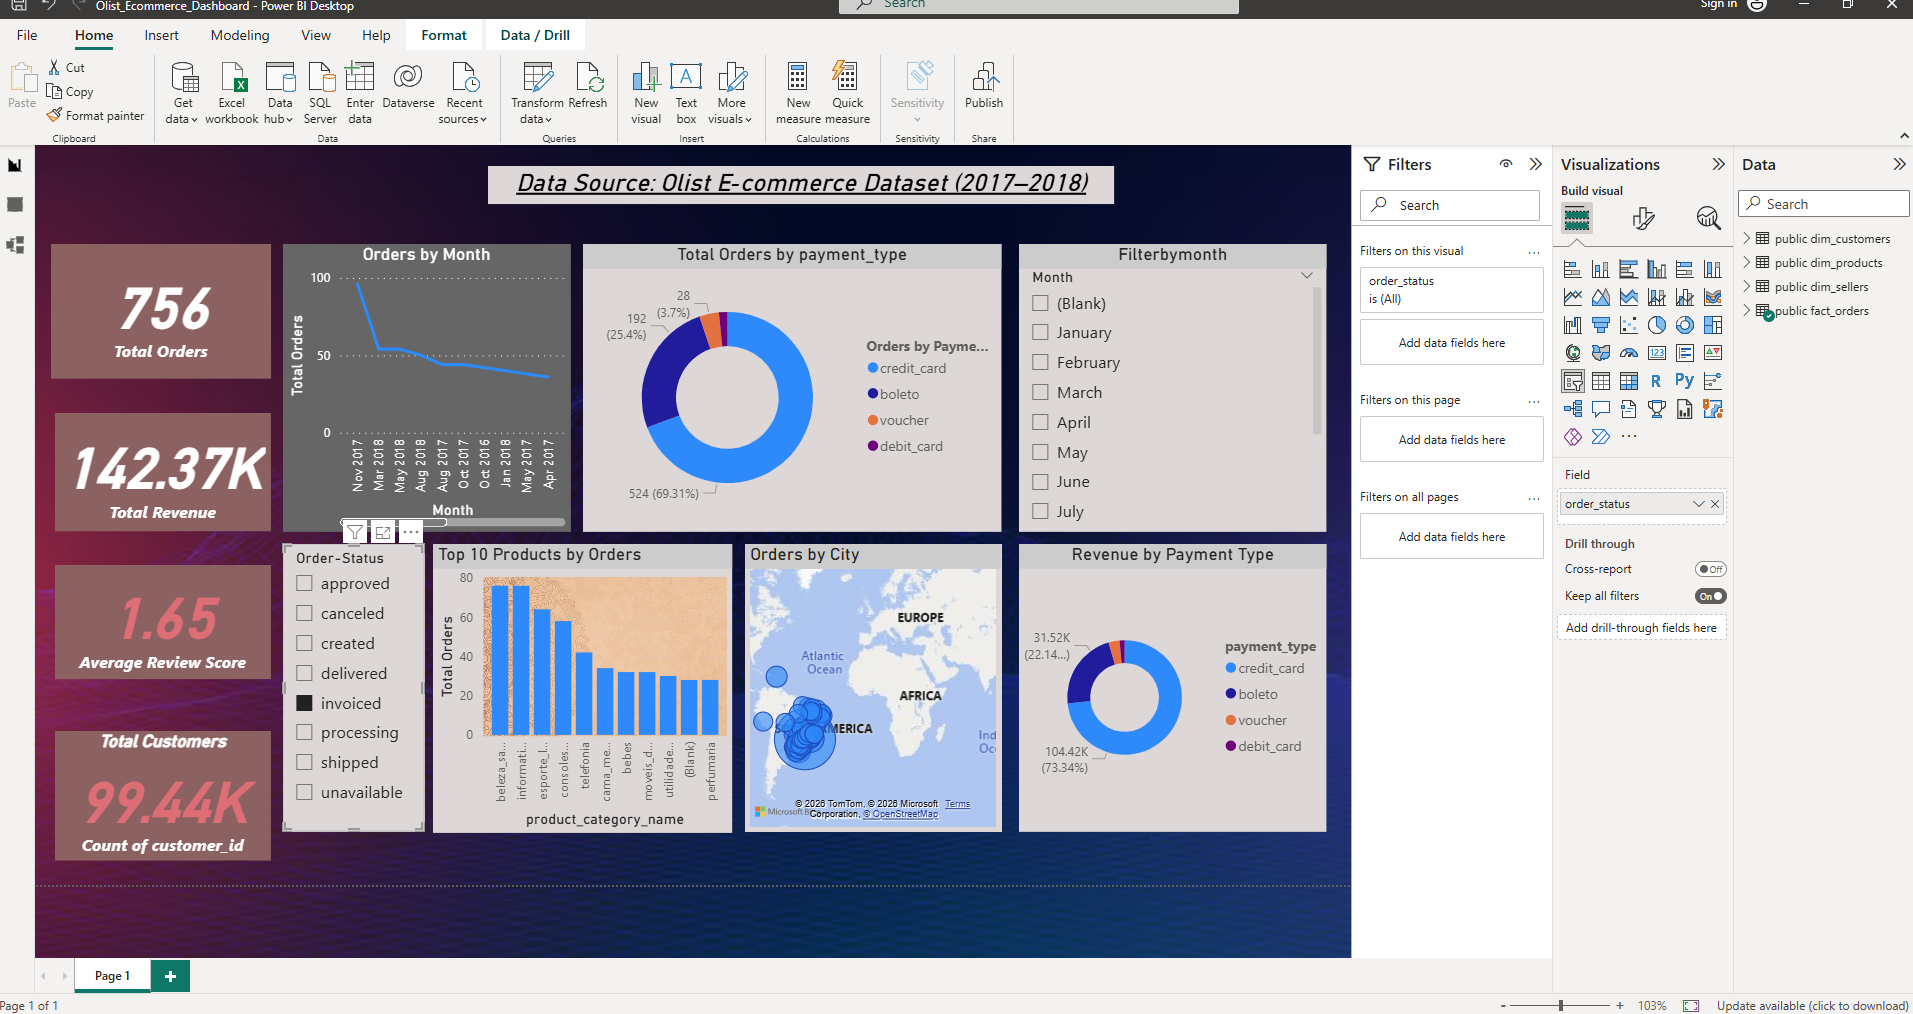

This screenshot's page, from the dashboard's own definition file:
{"tool":"powerbi","page":{"name":"Page 1","canvas":[1280,720],"ordinal":0},"visuals":[{"type":"card","fields":{"Values":["public dim_customers.Total Orders"]},"box":[15.6,96,213.9,131.4],"z":0},{"type":"card","fields":{"Values":["public dim_customers.Total Revenue"]},"box":[19.8,260.8,209.7,114.8],"z":1000},{"type":"card","fields":{"Values":["public fact_orders.Average Review Score"]},"box":[19.8,408.9,209.7,110.6],"z":2000},{"type":"lineChart","title":"Orders by Month","fields":{"Y":["public dim_customers.Total Orders"],"Category":["public fact_orders.Order Month"]},"box":[253.5,96,279.6,279.6],"z":3000},{"type":"donutChart","fields":{"Category":["public fact_orders.payment_type"],"Y":["public dim_customers.Total Orders"]},"box":[541.4,96,406.8,279.6],"z":4000},{"type":"slicer","fields":{"Values":["public fact_orders.order_status"]},"box":[241,388.1,137.7,279.6],"z":5000},{"type":"columnChart","title":"Top 10 Products by Orders","fields":{"Category":["public dim_products.product_category_name"],"Y":["public dim_customers.Total Orders"]},"box":[387,388.1,291.1,280.6],"z":6000},{"type":"card","title":"Total Customers","fields":{"Values":["Count(public dim_customers.customer_id)"]},"box":[19.8,569.6,209.7,126.2],"z":7000},{"type":"map","title":"Orders by City","fields":{"Category":["public dim_customers.customer_city"],"Size":["public dim_customers.Total Orders"]},"box":[678.1,388.1,278.5,281.7],"z":8000},{"type":"slicer","title":"Filterbymonth","fields":{"Values":["public fact_orders.order_delivered_customer_date.Variation.Date Hierarchy.Month"]},"box":[956.6,96,299.4,279.6],"z":9000},{"type":"donutChart","title":"Revenue by Payment Type","fields":{"Y":["public dim_customers.Total Revenue"],"Category":["public fact_orders.payment_type"]},"box":[956.6,388.1,299.4,281.7],"z":10000},{"type":"textbox","title":"Data Source: Olist E‑commerce Dataset (2017–2018)","box":[440.2,20.9,609.2,36.5],"z":11000}]}

Visuals, with their boxes on the page's 1280x720 design canvas (x1, y1, x2, y2). These are canvas units, not pixel positions in the 1913x1014 screenshot, which may show the page scaled, cropped or inside an application window:
card - public dim_customers.Total Orders: [16, 96, 230, 227]
card - public dim_customers.Total Revenue: [20, 261, 230, 376]
card - public fact_orders.Average Review Score: [20, 409, 230, 520]
"Orders by Month" lineChart: [254, 96, 533, 376]
donutChart - public fact_orders.payment_type x public dim_customers.Total Orders: [541, 96, 948, 376]
slicer - public fact_orders.order_status: [241, 388, 379, 668]
"Top 10 Products by Orders" columnChart: [387, 388, 678, 669]
"Total Customers" card: [20, 570, 230, 696]
"Orders by City" map: [678, 388, 957, 670]
"Filterbymonth" slicer: [957, 96, 1256, 376]
"Revenue by Payment Type" donutChart: [957, 388, 1256, 670]
"Data Source: Olist E‑commerce Dataset (2017–2018)" textbox: [440, 21, 1049, 57]
